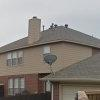Chimney: (19, 8, 43, 44)
